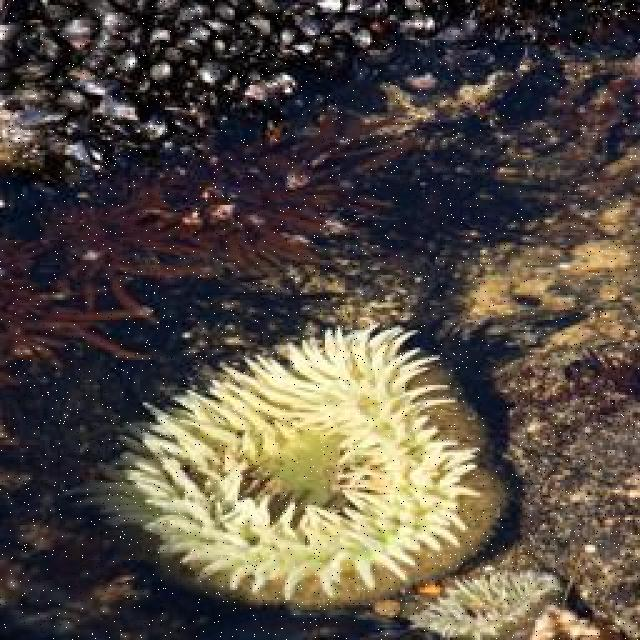reefs: (57, 321, 508, 606)
